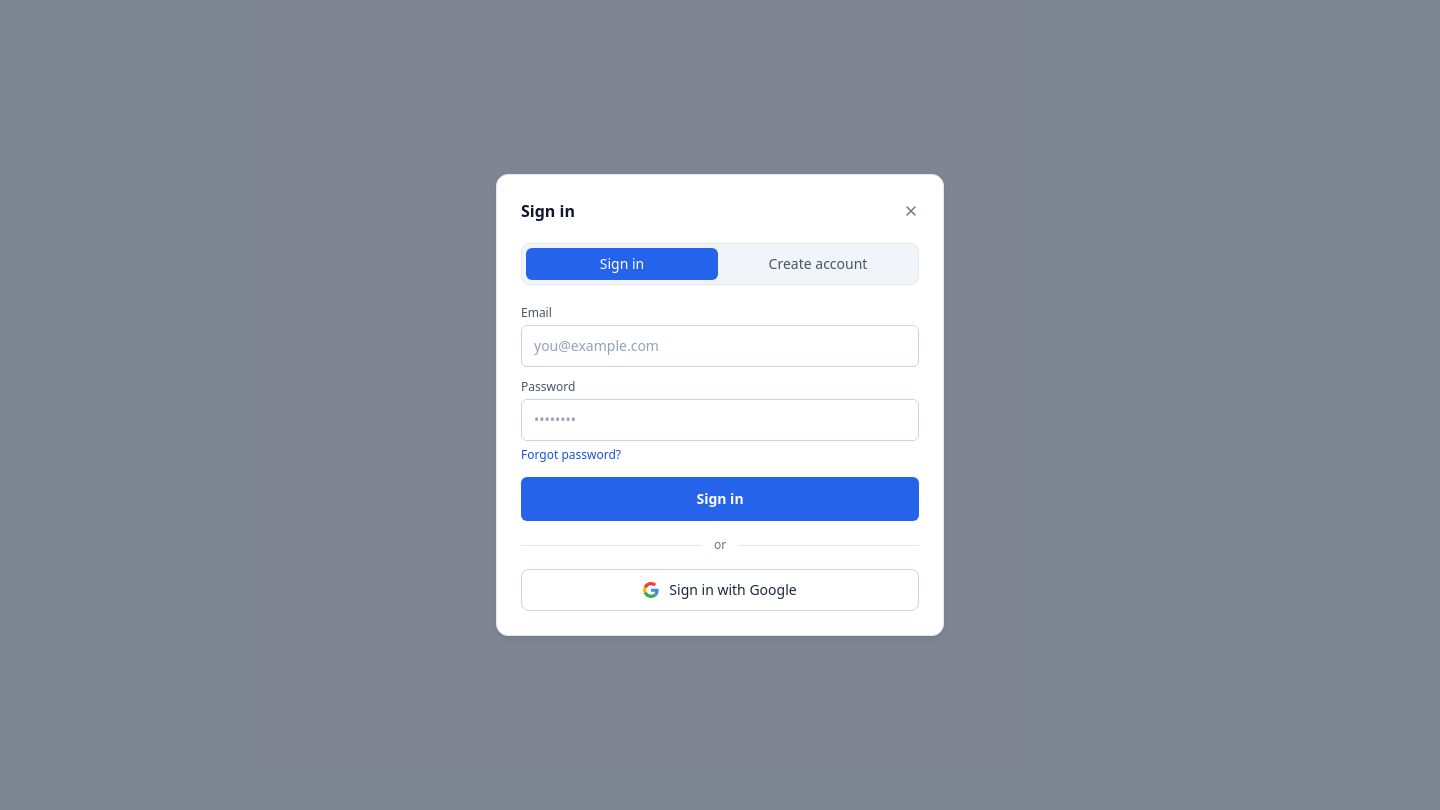
Test: AuthModal — forgot password › switches to the forgot-password form with the email prefilled
The width and height of the screenshot is (1440, 810).
In the field labelled "Email": (720, 346) x1=521 y1=325 x2=919 y2=367, type "a@example.com"
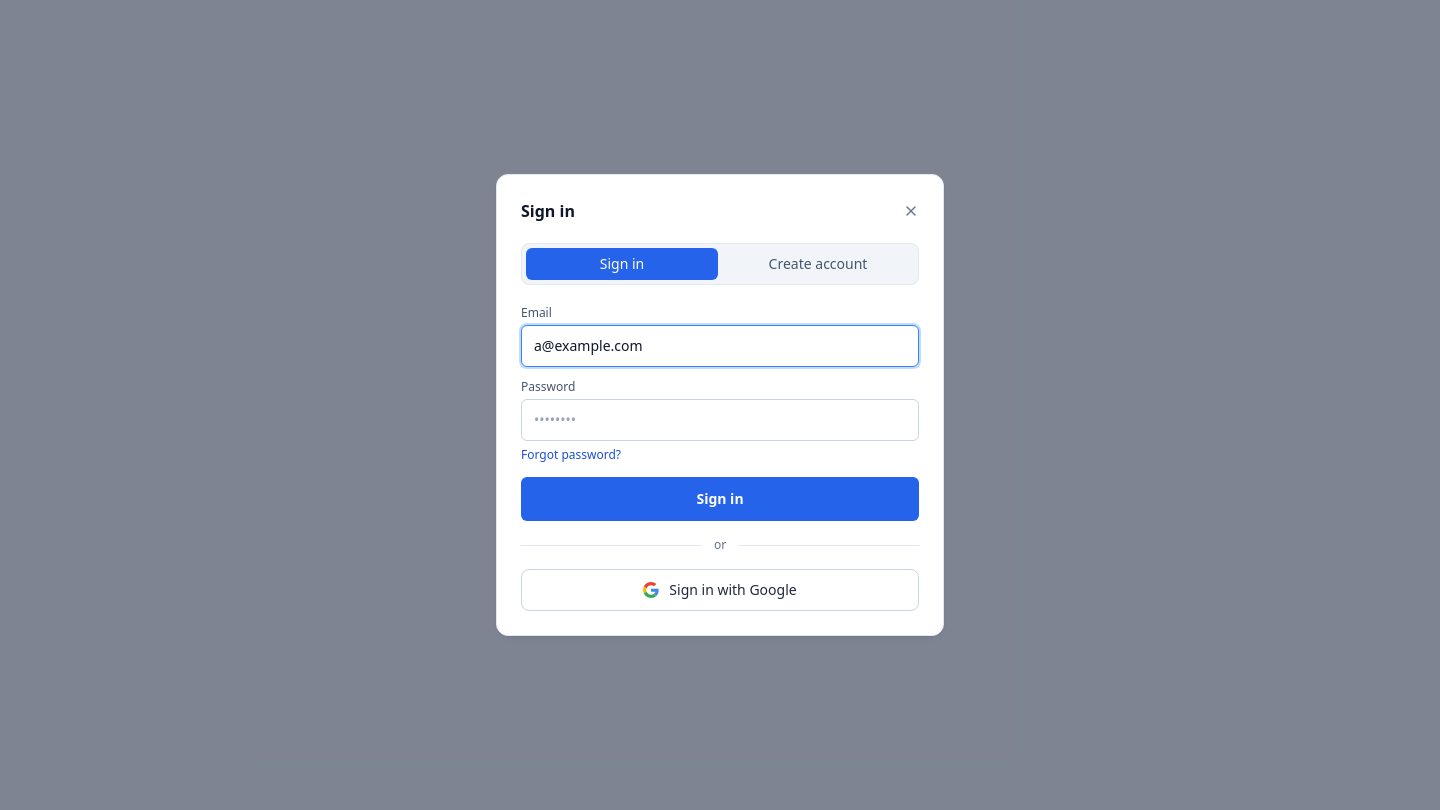
Click the button "Forgot password?": (571, 455) x1=521 y1=447 x2=621 y2=463
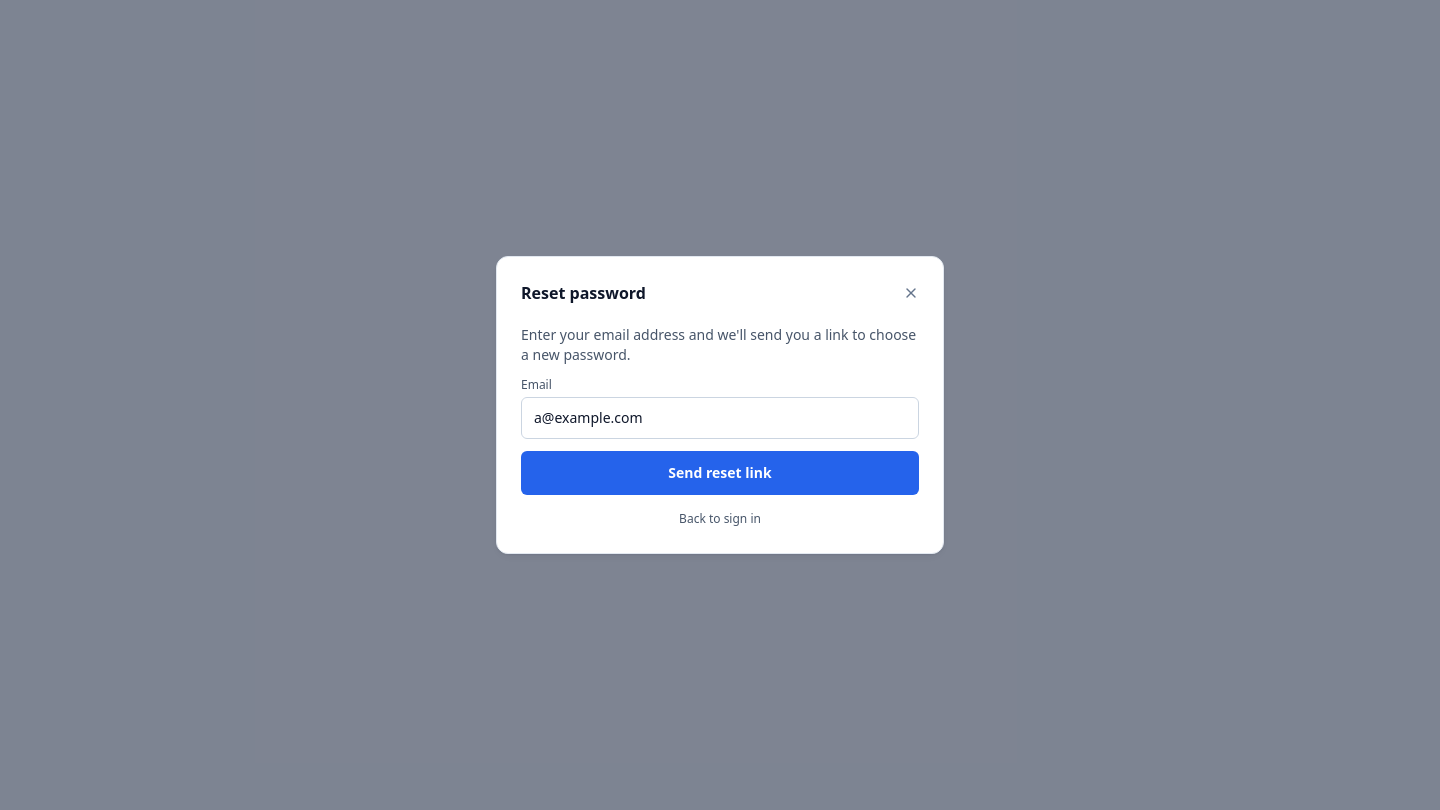
Now the dialog "Reset password" is shown, box x1=496 y1=256 x2=944 y2=554
Now the button "Back to sign in" is shown, box x1=521 y1=507 x2=919 y2=527
